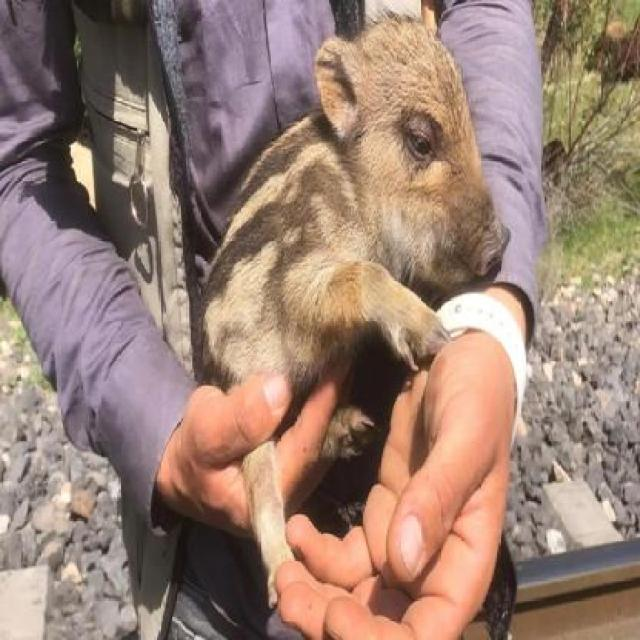wildboar: (185, 7, 512, 616)
